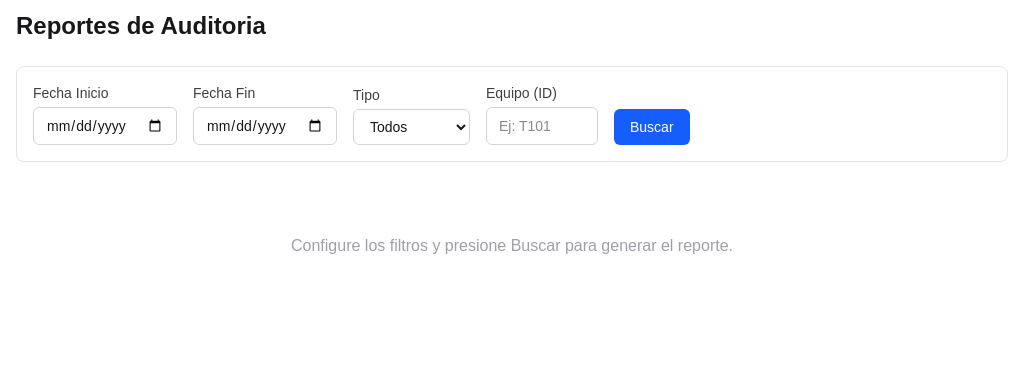
Test case: ReportesPage › renders result rows with correctiva and calibracion diagnostico
Click the button "Buscar".
click(652, 127)  # box [614, 109, 690, 145]
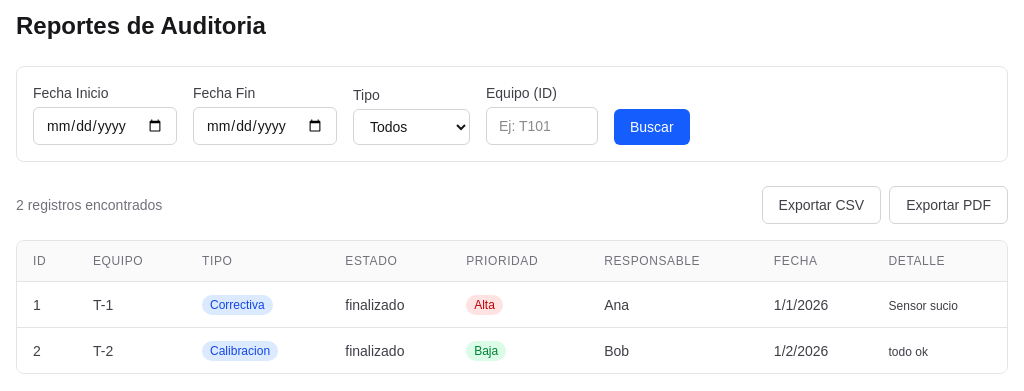
Expected: the text "T-1" is shown, [77, 282, 186, 328]
Expected: the text "Sensor sucio" is shown, [888, 298, 958, 312]
Expected: the text "todo ok" is shown, [888, 344, 928, 358]
